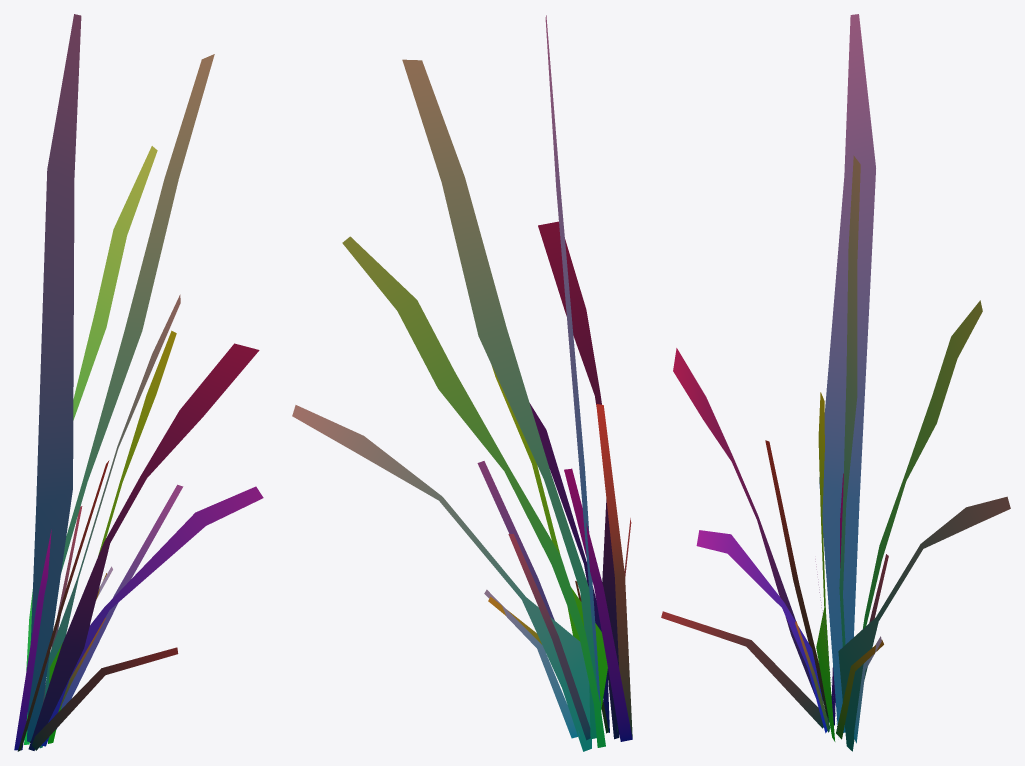
The model's file is Nordic_Coastal_Groundcover_vlqkdeaja_Mid_vlqkdeaja_VarO_LOD1.fbx.
3 views of the same model, side by side, from view 1: azimuth 30°, elevation 25°; view 2: azimuth 150°, elevation 25°; view 3: azimuth 270°, elevation 25° (orthographic). The views are drawn at different scales.
Visible parts, largest first — view 1: _bxgv_VarO_LOD3; view 2: _bxgv_VarO_LOD3; view 3: _bxgv_VarO_LOD3.
Part boxes in pixels (x1=…): _bxgv_VarO_LOD3: x1=14, y1=14, x2=263, y2=751; _bxgv_VarO_LOD3: x1=292, y1=15, x2=632, y2=751; _bxgv_VarO_LOD3: x1=661, y1=14, x2=1010, y2=751.
Bounding box in the file's own units: 29.4 × 80.47 × 33.73.
